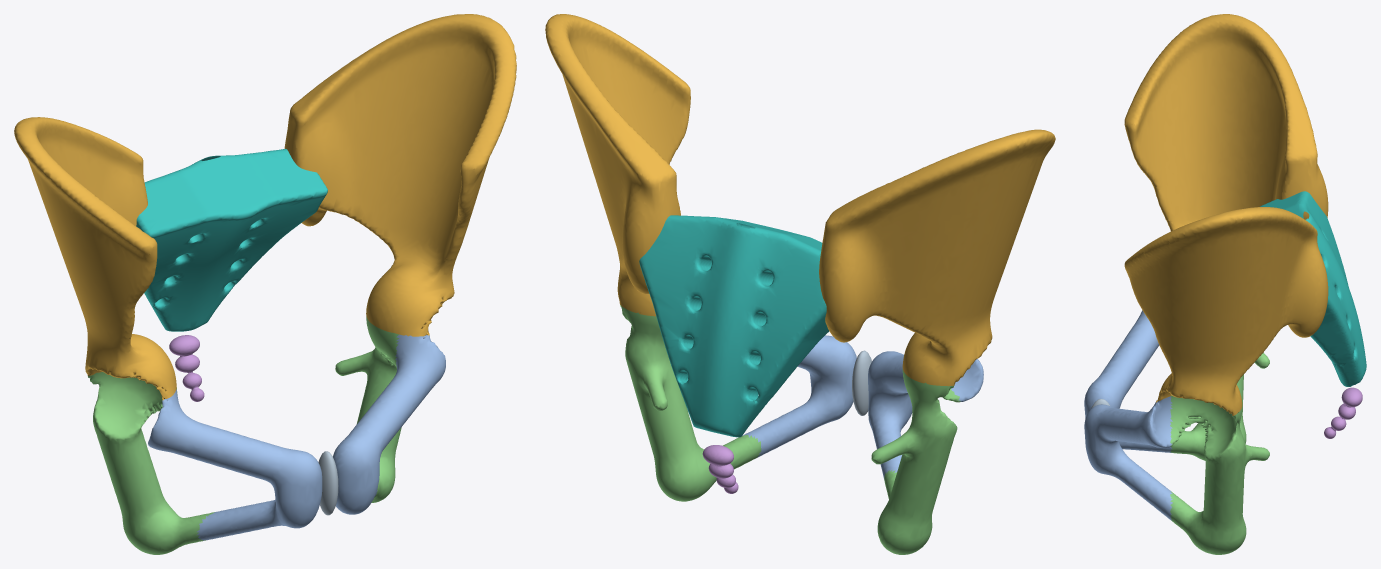
Rendered from esqueleto-pelvis.glb.
The picture shows the model from 3 angles, left to right: view 1: azimuth 30°, elevation 25°; view 2: azimuth 150°, elevation 25°; view 3: azimuth 270°, elevation 25°; orthographic projection. The views are drawn at different scales.
Visible parts, largest first — view 1: ilium_L, ilium_R, sacrum, pubis_R, ischium_R, pubis_L, ischium_L, coccyx, pubic_symphysis; view 2: ilium_R, sacrum, ilium_L, ischium_L, ischium_R, pubis_L, pubis_R, coccyx, pubic_symphysis; view 3: ilium_R, ilium_L, ischium_L, pubis_L, sacrum, pubis_R, ischium_R, coccyx.
Boxes of the visible parts, x1,y1,x2,y2 form: ilium_L: [284, 14, 516, 336]; ilium_R: [14, 117, 176, 400]; sacrum: [136, 149, 327, 331]; pubis_R: [148, 389, 322, 540]; ischium_R: [88, 372, 214, 554]; pubis_L: [333, 334, 445, 514]; ischium_L: [335, 316, 401, 502]; coccyx: [169, 335, 204, 401]; pubic_symphysis: [318, 451, 338, 515]; ilium_R: [819, 129, 1055, 386]; sacrum: [639, 215, 829, 437]; ilium_L: [545, 14, 690, 316]; ischium_L: [620, 305, 761, 501]; ischium_R: [871, 369, 960, 554]; pubis_L: [742, 335, 856, 458]; pubis_R: [868, 351, 983, 479]; coccyx: [702, 445, 738, 493]; pubic_symphysis: [852, 350, 871, 415]; ilium_R: [1124, 14, 1328, 231]; ilium_L: [1124, 207, 1328, 415]; ischium_L: [1170, 395, 1269, 554]; pubis_L: [1084, 396, 1172, 520]; sacrum: [1260, 191, 1366, 386]; pubis_R: [1084, 310, 1172, 452]; ischium_R: [1170, 353, 1269, 460]; coccyx: [1324, 387, 1362, 438].
Size of the model in its own units: 0.2874 by 0.2536 by 0.1654.
